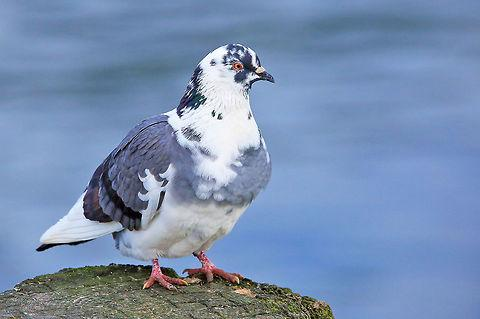Flying Rat: (37, 39, 273, 292)
